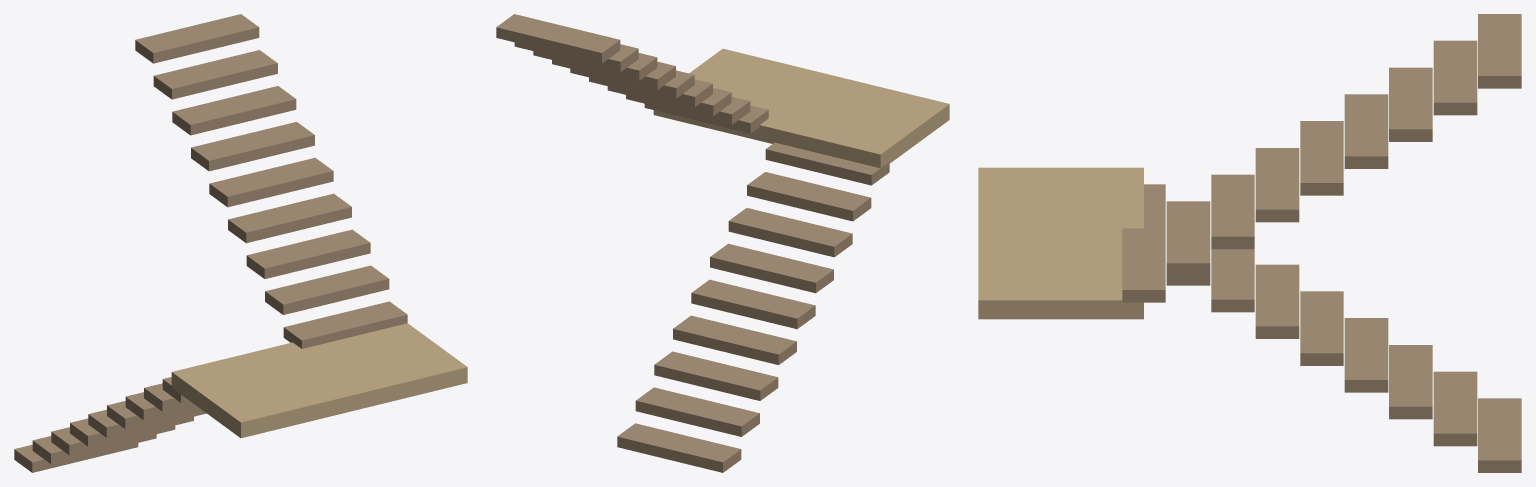
The model's file is stair_world_connection_025.glb.
3 views of the same model, side by side, from view 1: azimuth 30°, elevation 25°; view 2: azimuth 150°, elevation 25°; view 3: azimuth 270°, elevation 25° (orthographic). The views are drawn at different scales.
Parts seen in each view (by area): view 1: connection_025-element-9, connection_025-element-17, connection_025-element-10, connection_025-element-14, connection_025-element-16, connection_025-element-12, connection_025-element-11, connection_025-element-13, connection_025-element-15, connection_025-element-18, connection_025-element-1, connection_025-element-2 (+6 smaller); view 2: connection_025-element-9, connection_025-element-7, connection_025-element-0, connection_025-element-4, connection_025-element-6, connection_025-element-10, connection_025-element-2, connection_025-element-1, connection_025-element-3, connection_025-element-5, connection_025-element-8, connection_025-element-17 (+7 smaller); view 3: connection_025-element-9, connection_025-element-11, connection_025-element-1, connection_025-element-17, connection_025-element-13, connection_025-element-3, connection_025-element-15, connection_025-element-5, connection_025-element-16, connection_025-element-18, connection_025-element-14, connection_025-element-12 (+6 smaller).
Part boxes in pixels (x1=…): connection_025-element-9: x1=171, y1=323, x2=467, y2=438; connection_025-element-17: x1=265, y1=265, x2=389, y2=314; connection_025-element-10: x1=135, y1=14, x2=259, y2=63; connection_025-element-14: x1=209, y1=157, x2=333, y2=207; connection_025-element-16: x1=246, y1=229, x2=370, y2=278; connection_025-element-12: x1=172, y1=86, x2=296, y2=135; connection_025-element-11: x1=153, y1=50, x2=277, y2=99; connection_025-element-13: x1=191, y1=122, x2=314, y2=171; connection_025-element-15: x1=228, y1=193, x2=351, y2=243; connection_025-element-18: x1=283, y1=301, x2=407, y2=348; connection_025-element-1: x1=32, y1=434, x2=156, y2=463; connection_025-element-2: x1=51, y1=425, x2=175, y2=455; connection_025-element-9: x1=653, y1=48, x2=949, y2=168; connection_025-element-7: x1=747, y1=172, x2=871, y2=221; connection_025-element-0: x1=617, y1=423, x2=741, y2=472; connection_025-element-4: x1=691, y1=279, x2=815, y2=329; connection_025-element-6: x1=728, y1=208, x2=852, y2=257; connection_025-element-10: x1=496, y1=14, x2=620, y2=63; connection_025-element-2: x1=654, y1=351, x2=778, y2=400; connection_025-element-1: x1=635, y1=387, x2=759, y2=436; connection_025-element-3: x1=673, y1=315, x2=796, y2=364; connection_025-element-5: x1=710, y1=243, x2=833, y2=293; connection_025-element-8: x1=765, y1=142, x2=889, y2=185; connection_025-element-17: x1=626, y1=95, x2=750, y2=124; connection_025-element-9: x1=978, y1=167, x2=1143, y2=319; connection_025-element-11: x1=1433, y1=40, x2=1477, y2=115; connection_025-element-1: x1=1433, y1=371, x2=1477, y2=446; connection_025-element-17: x1=1166, y1=201, x2=1210, y2=275; connection_025-element-13: x1=1344, y1=94, x2=1388, y2=168; connection_025-element-3: x1=1344, y1=318, x2=1388, y2=392; connection_025-element-15: x1=1255, y1=148, x2=1299, y2=222; connection_025-element-5: x1=1255, y1=264, x2=1299, y2=338; connection_025-element-16: x1=1211, y1=174, x2=1254, y2=249; connection_025-element-18: x1=1122, y1=228, x2=1165, y2=302; connection_025-element-14: x1=1300, y1=121, x2=1343, y2=195; connection_025-element-12: x1=1389, y1=67, x2=1432, y2=141.
Bounding box in the file's own units: 1.8 × 2.96 × 3.11.
